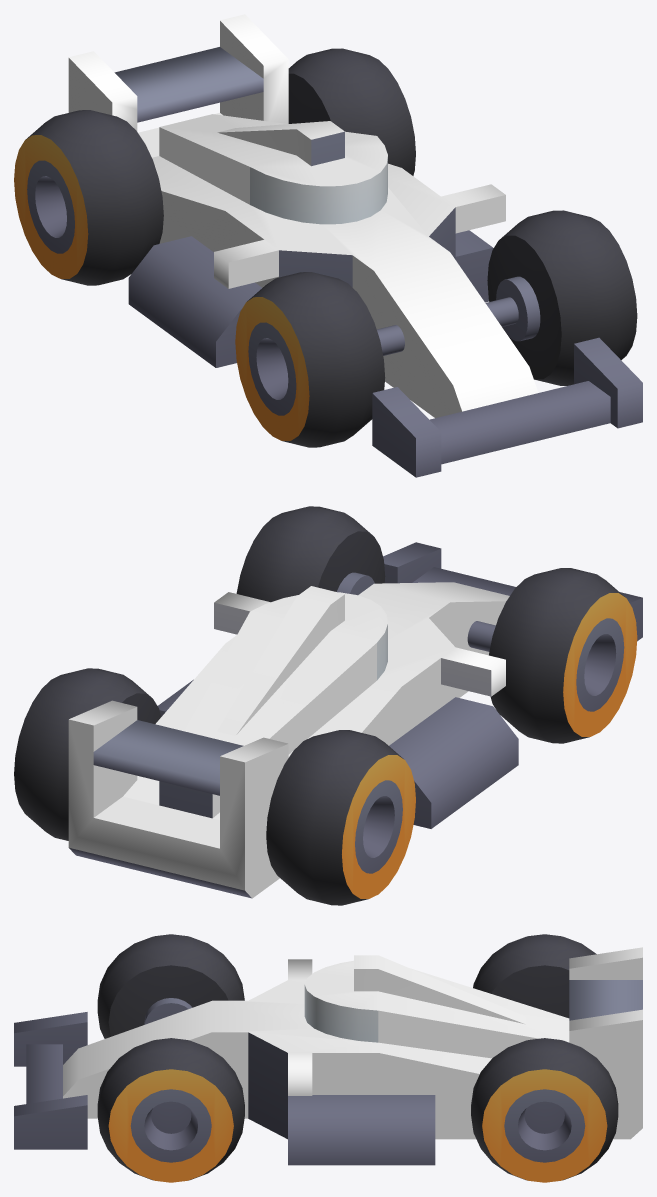
The model's file is race.glb.
3 renders of one model, top to bottom at view 1: azimuth 30°, elevation 25°; view 2: azimuth 150°, elevation 25°; view 3: azimuth 270°, elevation 25°, orthographic. The views are drawn at different scales.
Visible parts, largest first — view 1: body, wheel-back-right, wheel-front-right, wheel-front-left, wheel-back-left; view 2: body, wheel-back-right, wheel-front-right, wheel-back-left, wheel-front-left; view 3: body, wheel-back-left, wheel-front-left, wheel-front-right, wheel-back-right.
Part boxes in pixels (left/top/right/bottom): body: left=68, top=14, right=642, bottom=477; wheel-back-right: left=14, top=110, right=163, bottom=285; wheel-front-right: left=235, top=272, right=385, bottom=447; wheel-front-left: left=487, top=210, right=637, bottom=385; wheel-back-left: left=288, top=48, right=415, bottom=175; body: left=68, top=542, right=642, bottom=898; wheel-back-right: left=266, top=730, right=415, bottom=905; wheel-front-right: left=489, top=568, right=637, bottom=743; wheel-back-left: left=14, top=668, right=161, bottom=840; wheel-front-left: left=236, top=506, right=385, bottom=602; body: left=14, top=947, right=642, bottom=1165; wheel-back-left: left=471, top=1038, right=618, bottom=1182; wheel-front-left: left=97, top=1038, right=244, bottom=1182; wheel-front-right: left=97, top=934, right=244, bottom=1038; wheel-back-right: left=473, top=934, right=596, bottom=1018.
Size of the model in its own units: 1.3 by 0.7325 by 2.56.
Materials: 2 (1 with a texture image).
